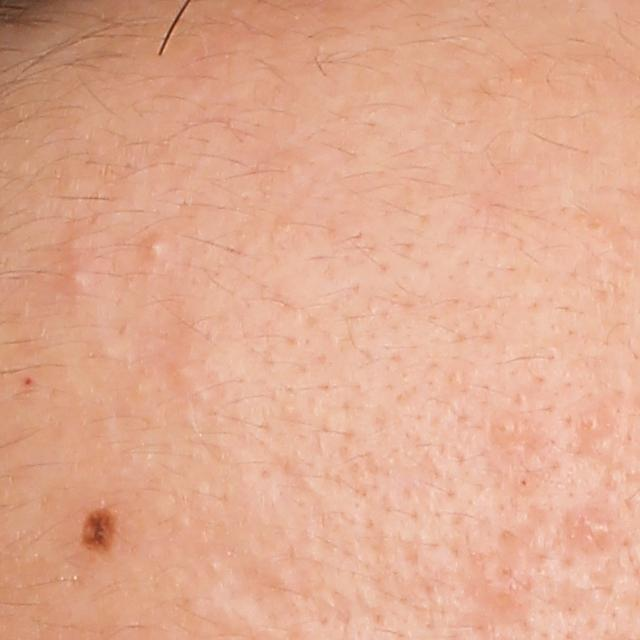comedo: (141, 232, 174, 259), (491, 414, 518, 445), (67, 269, 87, 288), (582, 415, 602, 433)
